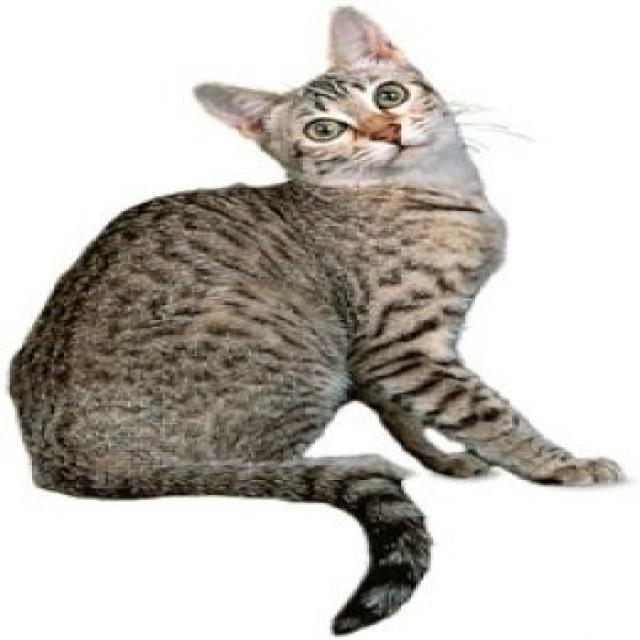Egyptian_Mau: (192, 5, 450, 185)
